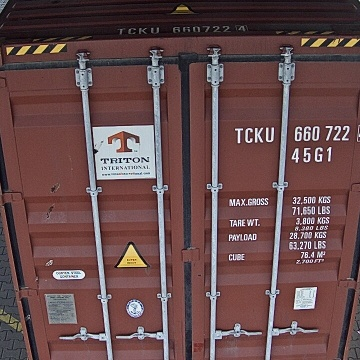serial_id: (235, 124, 360, 142)
